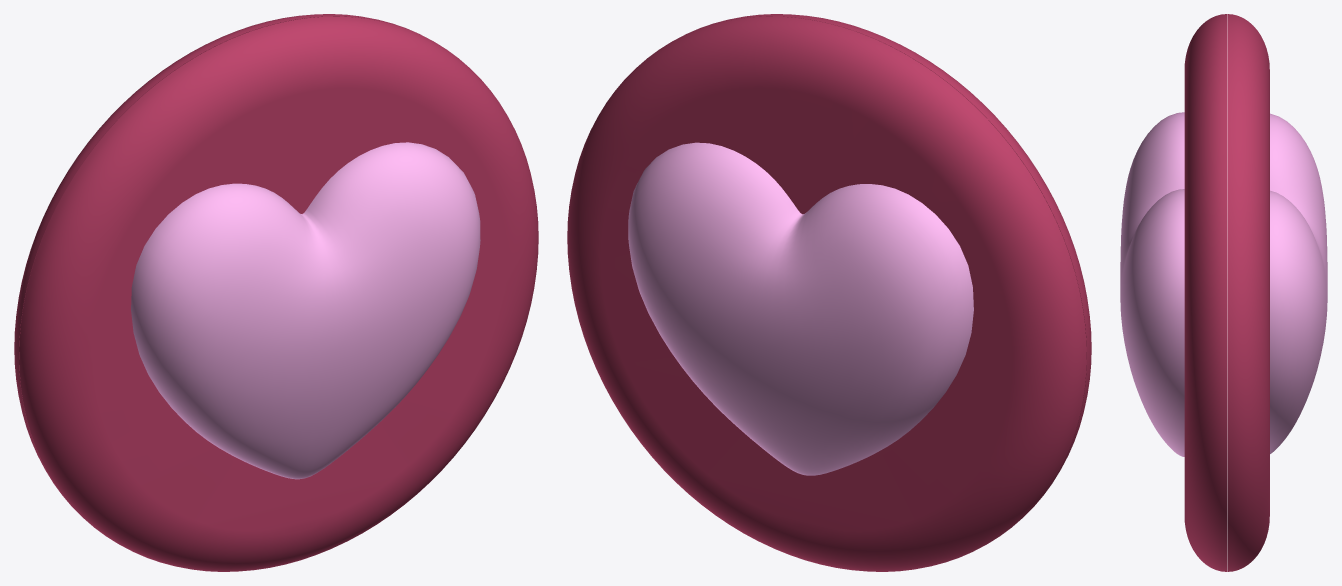
File: Adore2.glb
The picture shows the model from 3 angles, left to right: view 1: azimuth 30°, elevation 25°; view 2: azimuth 150°, elevation 25°; view 3: azimuth 270°, elevation 25°; orthographic projection. The views are drawn at different scales.
Visible parts, largest first — view 1: Object_2.001, BASE HEART_Material #41_0.001; view 2: Object_2.001, BASE HEART_Material #41_0; view 3: Object_2.001, BASE HEART_Material #41_0.001, BASE HEART_Material #41_0.
Part boxes in pixels (x1=…): Object_2.001: x1=14, y1=14, x2=538, y2=571; BASE HEART_Material #41_0.001: x1=131, y1=142, x2=480, y2=479; Object_2.001: x1=567, y1=14, x2=1091, y2=571; BASE HEART_Material #41_0: x1=628, y1=142, x2=973, y2=475; Object_2.001: x1=1184, y1=14, x2=1269, y2=571; BASE HEART_Material #41_0.001: x1=1120, y1=112, x2=1184, y2=456; BASE HEART_Material #41_0: x1=1270, y1=113, x2=1327, y2=453.
Bounding box in the file's own units: 23.19 × 23.19 × 8.62.
